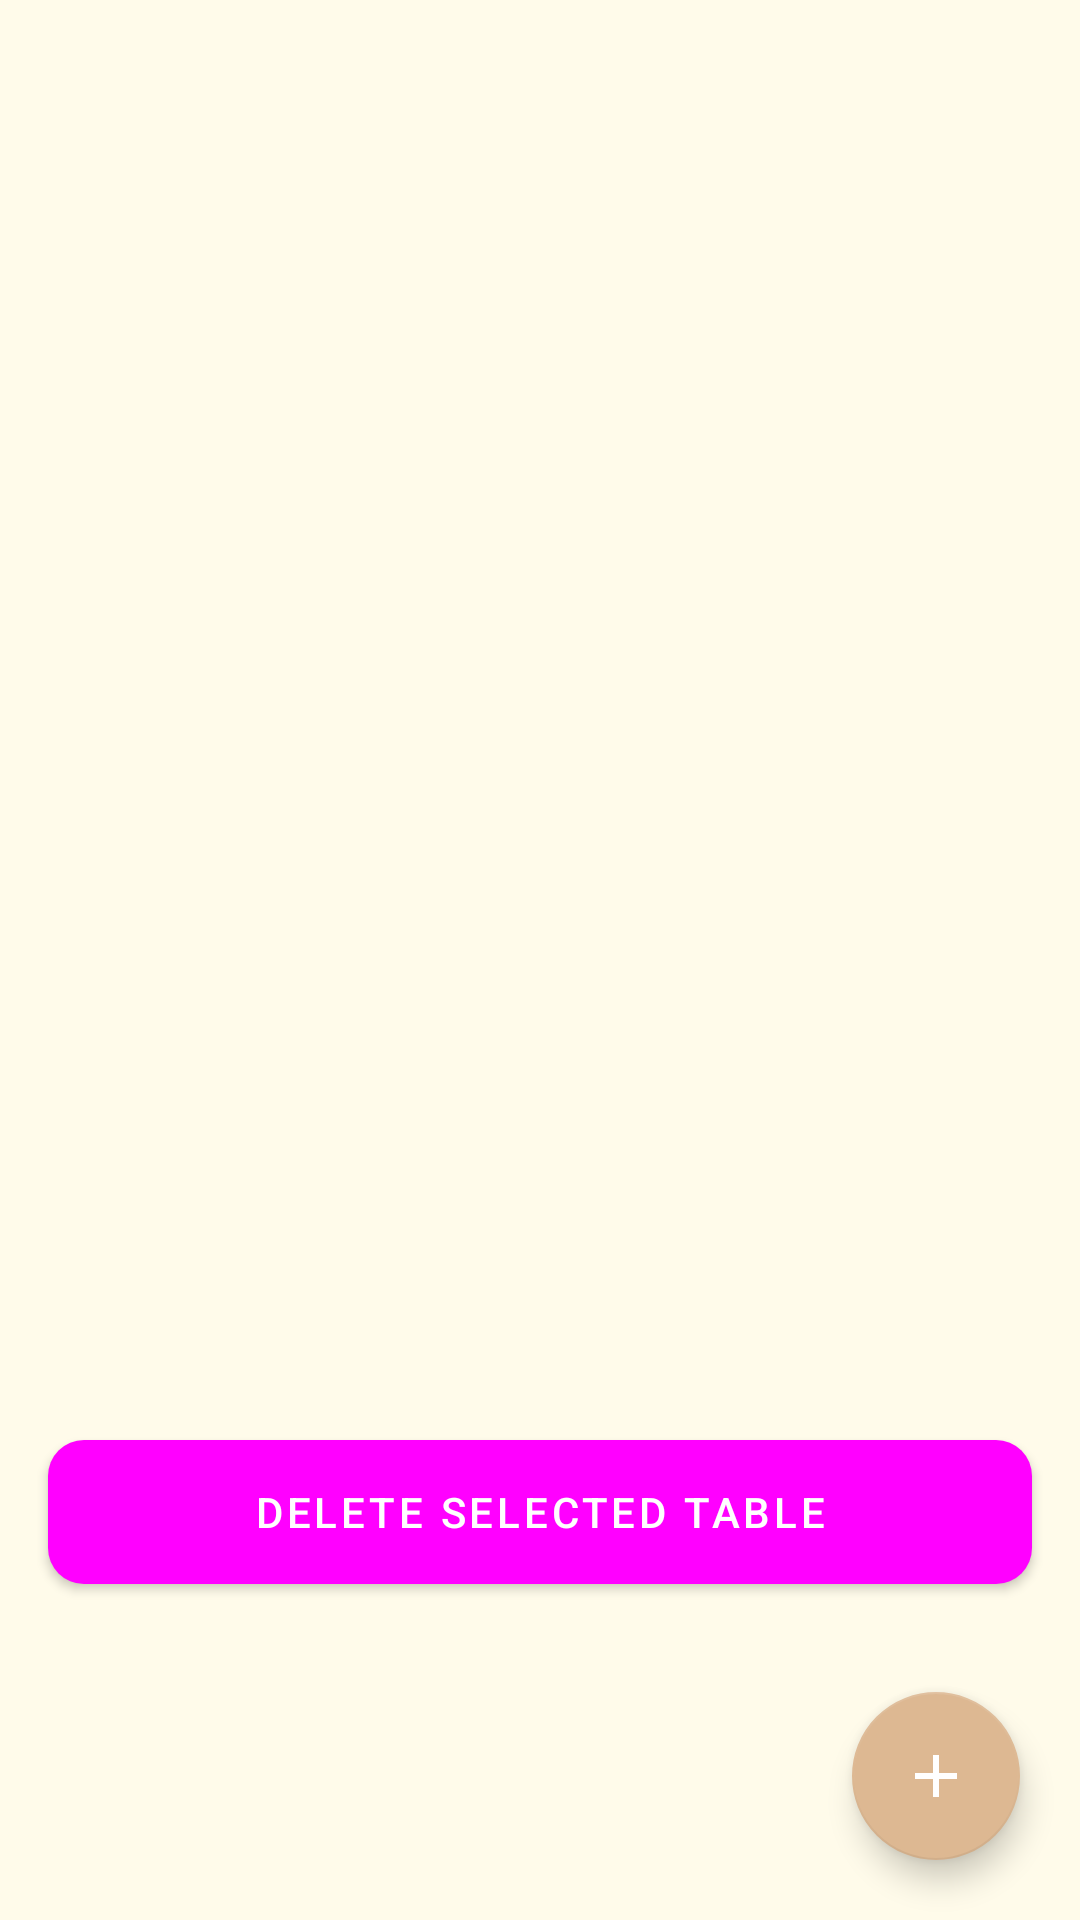

Named icons in this screenshot (1080px×1920px) and their bounding boxes, (x1, y1, x2, y2):
Add Table: (852, 1692, 1020, 1860)
